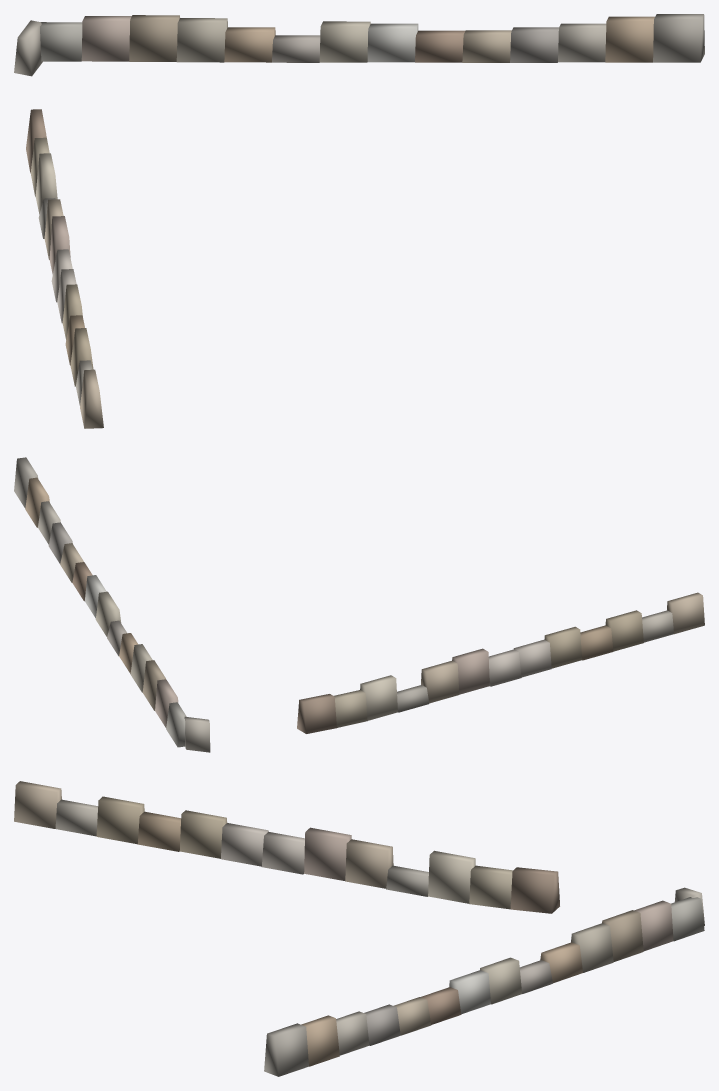
Rendered from farm_-33_-22_collision.glb.
The picture shows the model from 3 angles, top to bottom: view 1: azimuth 30°, elevation 25°; view 2: azimuth 150°, elevation 25°; view 3: azimuth 270°, elevation 25°; orthographic projection. The views are drawn at different scales.
Parts seen in each view (by area): view 1: geometry_0; view 2: geometry_0; view 3: geometry_0.
Boxes of the visible parts, <box> form: geometry_0: <box>14,14,704,428</box>; geometry_0: <box>14,457,704,752</box>; geometry_0: <box>14,781,704,1076</box>.
Size of the model in its own units: 28.22 by 4.67 by 23.79.
